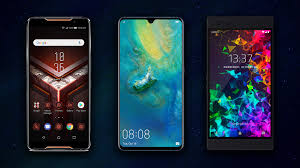huawei: (23, 15, 91, 152), (204, 13, 272, 150), (117, 16, 185, 153)
